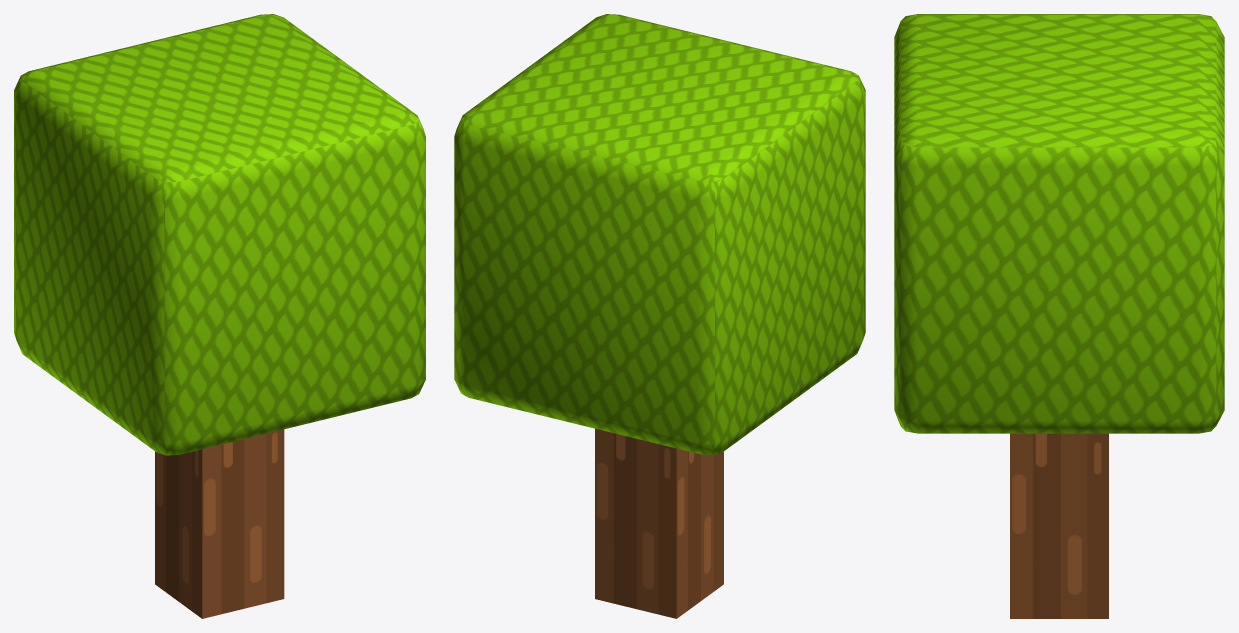
Rendered from tree.FBX.
3 views of the same model, side by side, from view 1: azimuth 30°, elevation 25°; view 2: azimuth 150°, elevation 25°; view 3: azimuth 270°, elevation 25° (orthographic). The views are drawn at different scales.
Parts seen in each view (by area): view 1: tree_2, tree_1; view 2: tree_2, tree_1; view 3: tree_2, tree_1.
Boxes of the visible parts, left/top/right/bottom form: tree_2: left=14, top=14, right=425, bottom=455; tree_1: left=155, top=429, right=284, bottom=618; tree_2: left=454, top=14, right=865, bottom=454; tree_1: left=595, top=428, right=723, bottom=618; tree_2: left=894, top=14, right=1224, bottom=433; tree_1: left=1010, top=433, right=1108, bottom=618.
Bounding box in the file's own units: 200 × 350 × 200.
